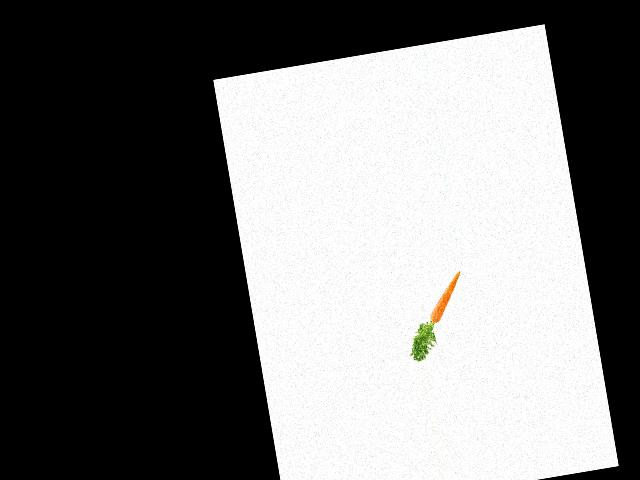carrot: (422, 269, 470, 329)
